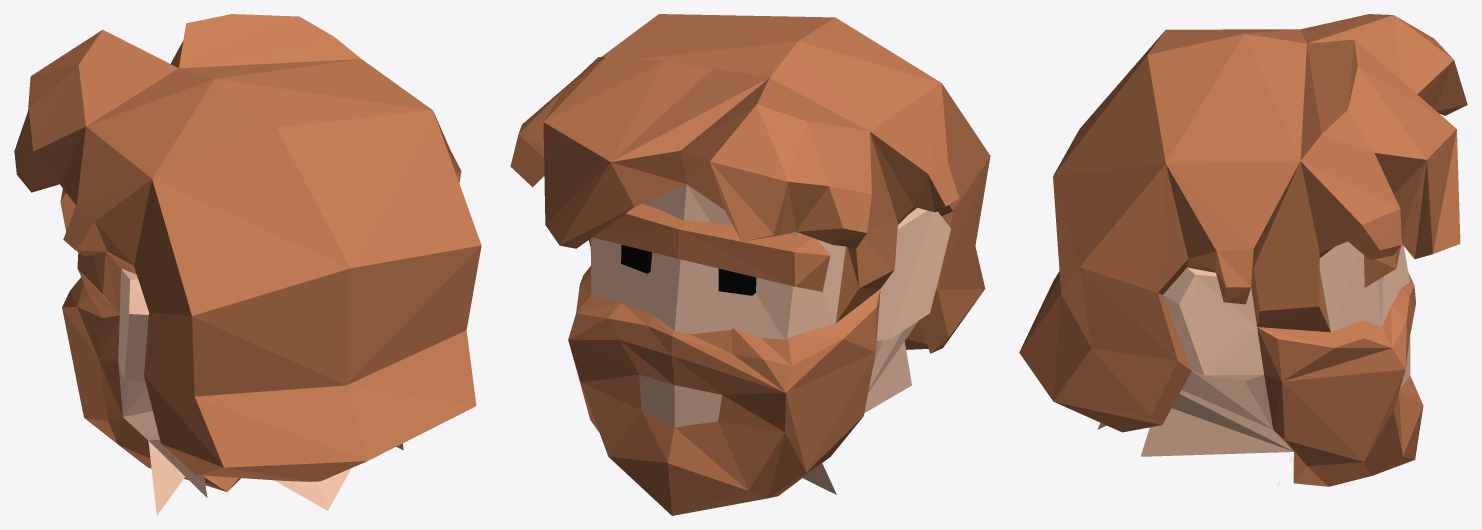
File: Head.obj
3 renders of one model, left to right at view 1: azimuth 30°, elevation 25°; view 2: azimuth 150°, elevation 25°; view 3: azimuth 270°, elevation 25°, orthographic. The views are drawn at different scales.
Bounding box in the file's own units: 0.3286 × 0.3641 × 0.3372.
Materials: 1 (1 with a texture image).
